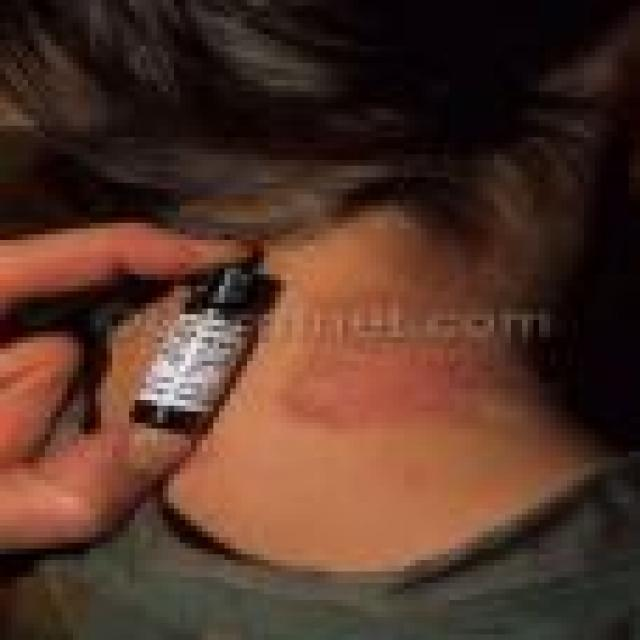Melasma: (276, 276, 492, 448)
